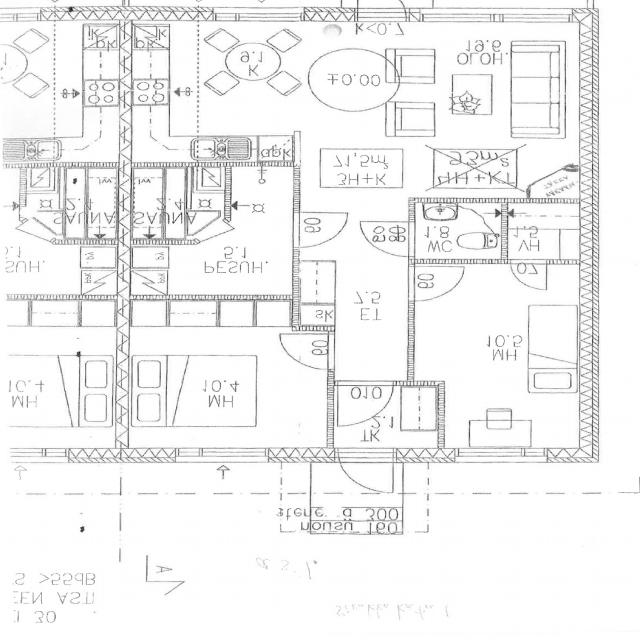door: (340, 448, 394, 500), (338, 381, 394, 425), (195, 220, 252, 260), (294, 212, 350, 247), (279, 334, 335, 369), (409, 266, 464, 301), (360, 222, 415, 256), (511, 260, 547, 290), (358, 0, 406, 22)
